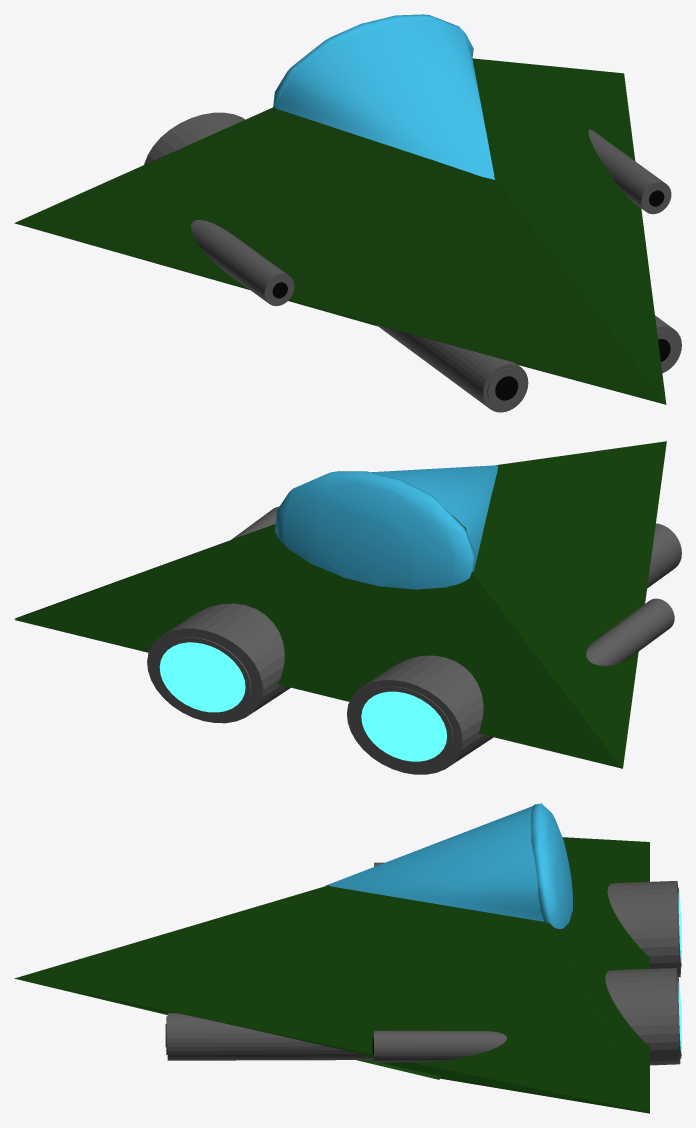
Rendered from nave verde.fbx.
3 views of the same model, one above another, from view 1: azimuth 30°, elevation 25°; view 2: azimuth 150°, elevation 25°; view 3: azimuth 270°, elevation 25° (orthographic). The views are drawn at different scales.
Visible parts, largest first — view 1: Plane.001, Cone, Cylinder.005, Cylinder.002, Cylinder.003, Cylinder, Mball, Cylinder.007; view 2: Plane.001, Mball, Cylinder.001, Cylinder, Cylinder.012, Cylinder.013, Cone, Cylinder.002, Cylinder.014, Cylinder.015, Cylinder.005; view 3: Plane.001, Cone, Cylinder.004, Cylinder.001, Cylinder, Mball, Cylinder.003.
Part boxes in pixels (<box>): Plane.001: <box>14,58,666,404</box>; Cone: <box>275,21,494,179</box>; Cylinder.005: <box>376,325,528,412</box>; Cylinder.002: <box>191,220,294,306</box>; Cylinder.003: <box>588,129,671,214</box>; Cylinder: <box>144,112,245,164</box>; Mball: <box>273,14,473,109</box>; Cylinder.007: <box>487,368,524,407</box>; Plane.001: <box>14,441,666,768</box>; Mball: <box>275,471,475,589</box>; Cylinder.001: <box>147,603,290,723</box>; Cylinder: <box>347,655,493,774</box>; Cylinder.012: <box>159,642,245,712</box>; Cylinder.013: <box>361,691,446,761</box>; Cone: <box>371,465,498,571</box>; Cylinder.002: <box>586,598,674,665</box>; Cylinder.014: <box>153,637,251,716</box>; Cylinder.015: <box>356,686,453,765</box>; Cylinder.005: <box>647,523,681,588</box>; Plane.001: <box>14,837,649,1113</box>; Cone: <box>325,806,544,921</box>; Cylinder.004: <box>167,1013,373,1060</box>; Cylinder.001: <box>605,968,680,1065</box>; Cylinder: <box>607,881,680,977</box>; Mball: <box>530,803,572,928</box>; Cylinder.003: <box>374,1030,506,1062</box>.
Bounding box in the file's own units: 6.01 × 2.68 × 6.24.
